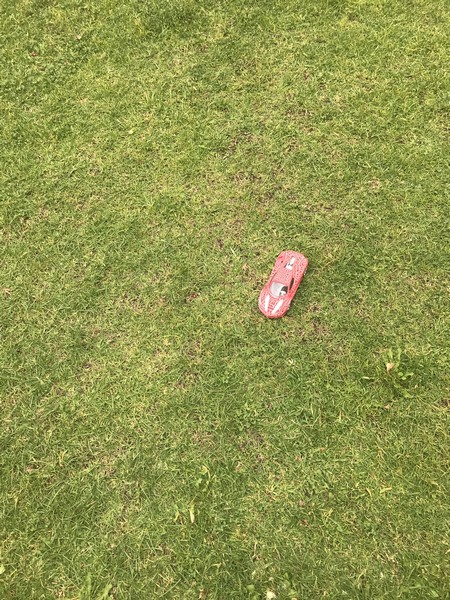RC: (256, 249, 312, 320)
